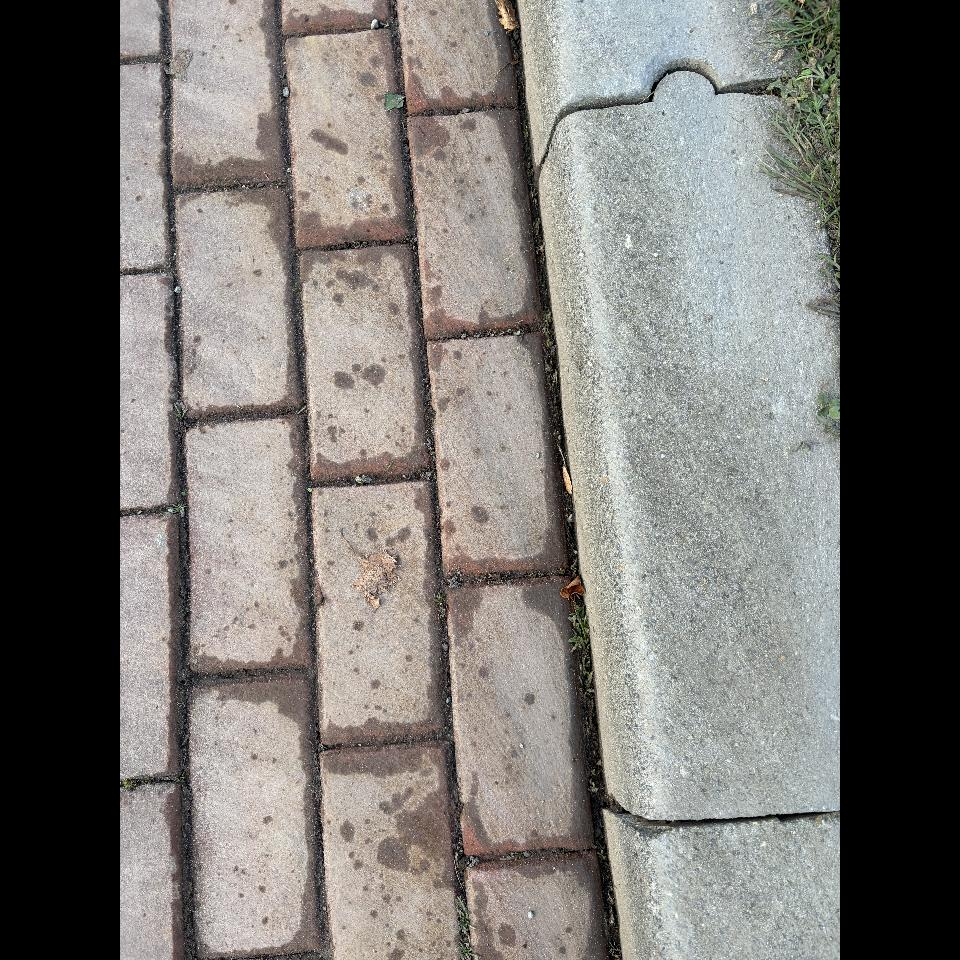weed: (568, 604, 590, 660), (457, 897, 476, 933), (544, 307, 554, 352), (459, 943, 480, 960), (164, 503, 191, 514), (175, 408, 188, 419), (434, 594, 443, 602)
